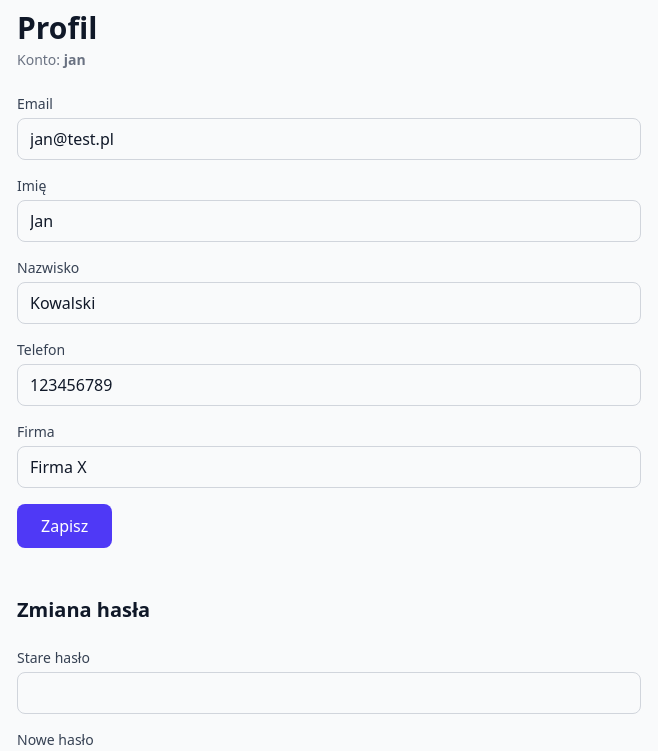
it: ProfilePage — profile form › shows field error from API on failure
Click the button "Zapisz" at coordinates (65, 526), box [17,504,112,548]
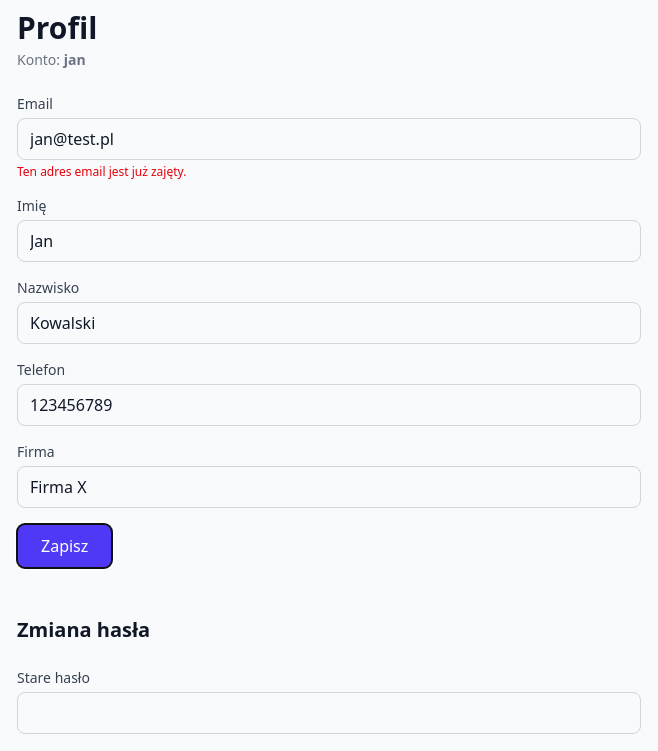
Check: the text "Ten adres email jest już zajęty." is shown, box [17,163,186,180]
